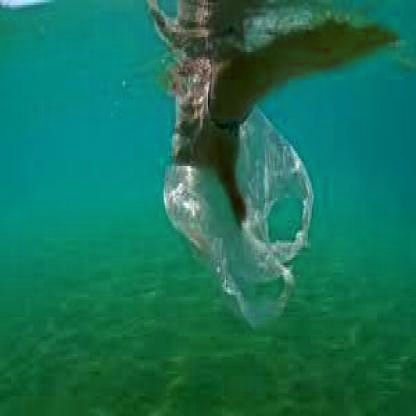pbag: (161, 84, 316, 332)
